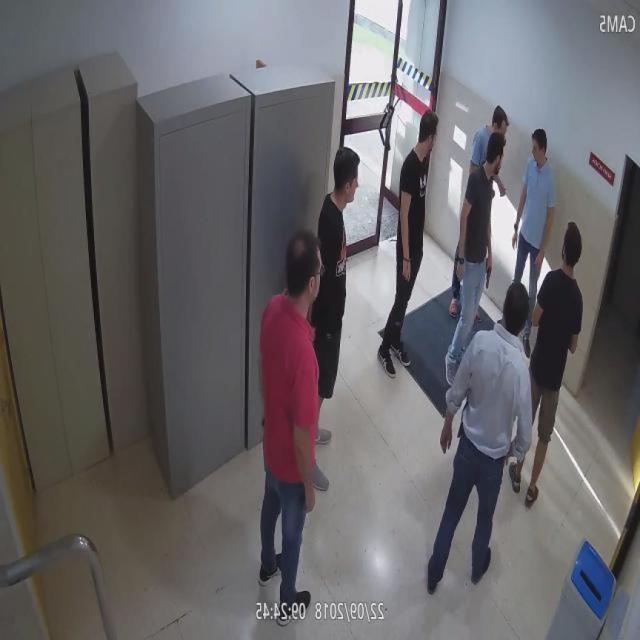pistol: (456, 400, 470, 440), (484, 252, 494, 292)
